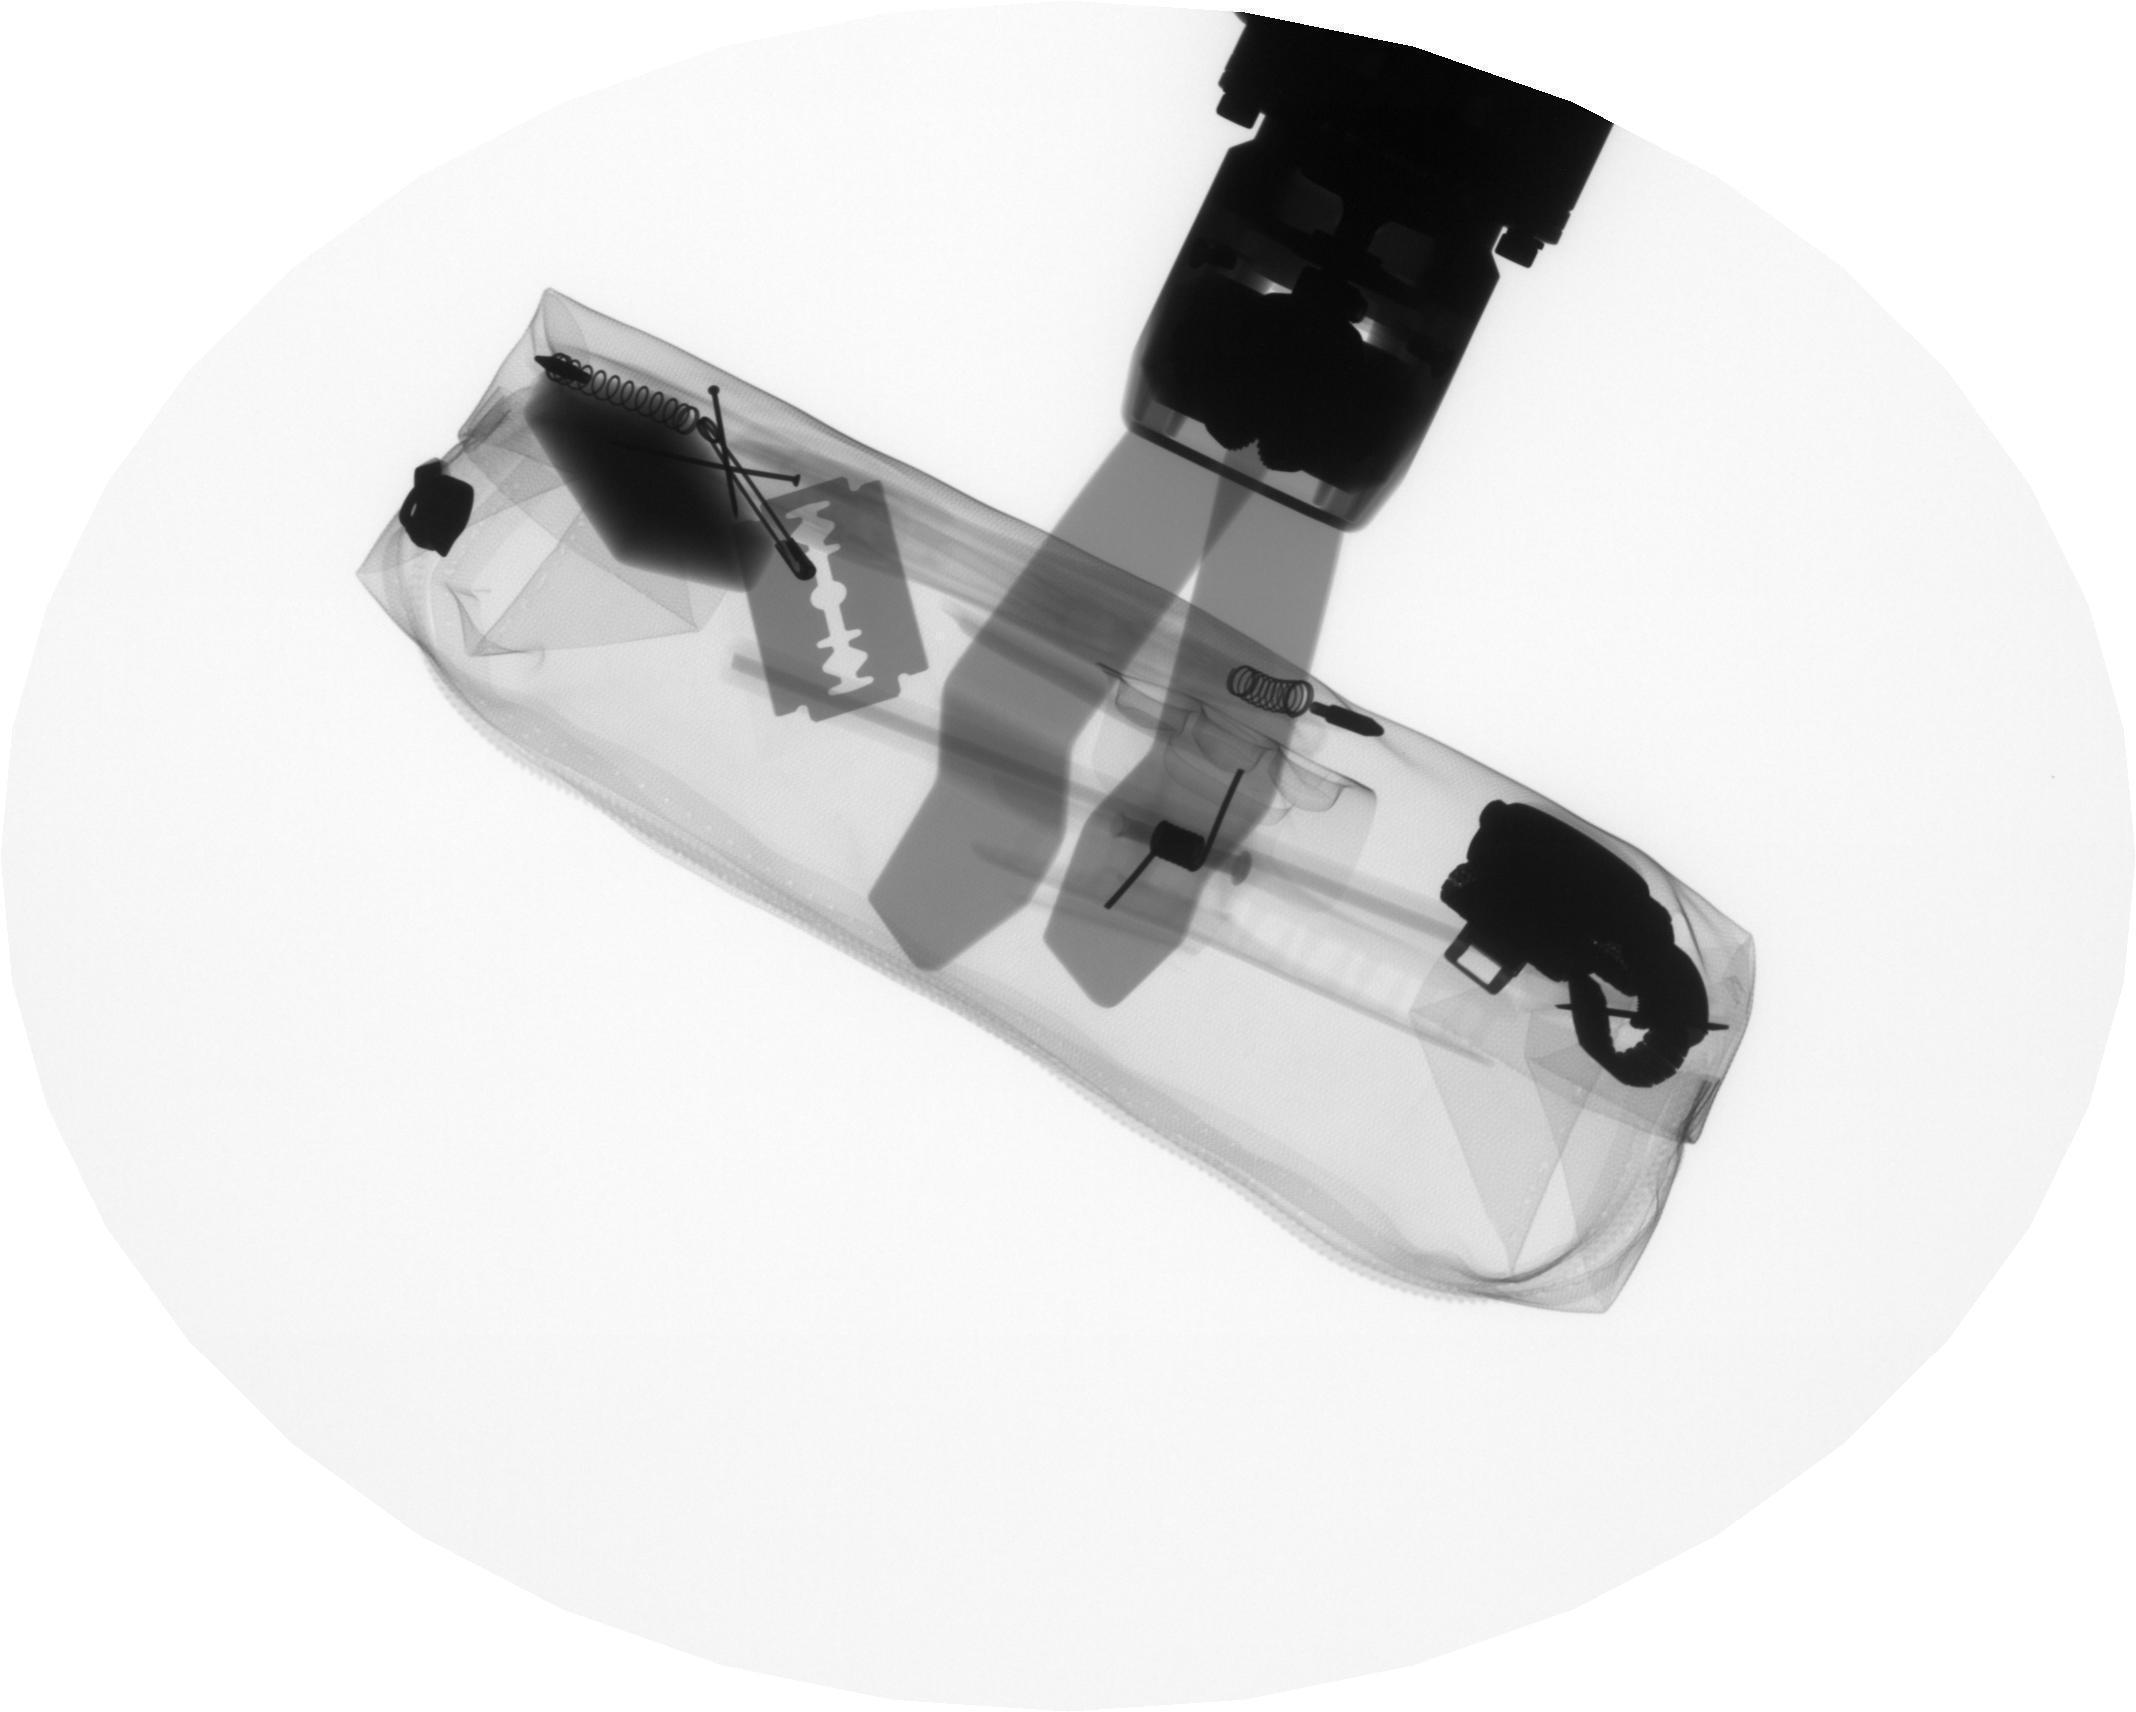RazorBlade: (728, 468, 936, 730)
